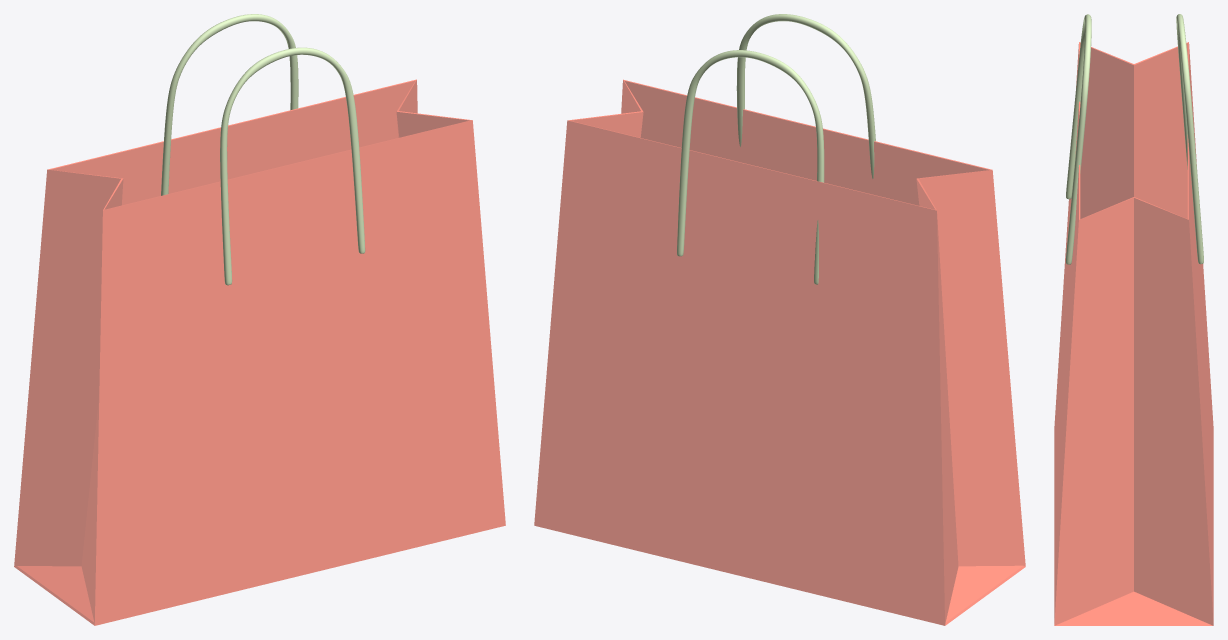
File: store.gltf
The picture shows the model from 3 angles, left to right: view 1: azimuth 30°, elevation 25°; view 2: azimuth 150°, elevation 25°; view 3: azimuth 270°, elevation 25°; orthographic projection.
Parts seen in each view (by area): view 1: Cube, Plane; view 2: Cube, Plane; view 3: Cube, Plane.
Part boxes in pixels (box(x1,y1,x2,y2)): Cube: box(14, 79, 505, 625); Plane: box(161, 14, 365, 285); Cube: box(534, 79, 1025, 625); Plane: box(677, 14, 875, 284); Cube: box(1054, 42, 1213, 625); Plane: box(1065, 14, 1203, 264).
Bounding box in the file's own units: 0.3672 × 0.4372 × 0.1248.
